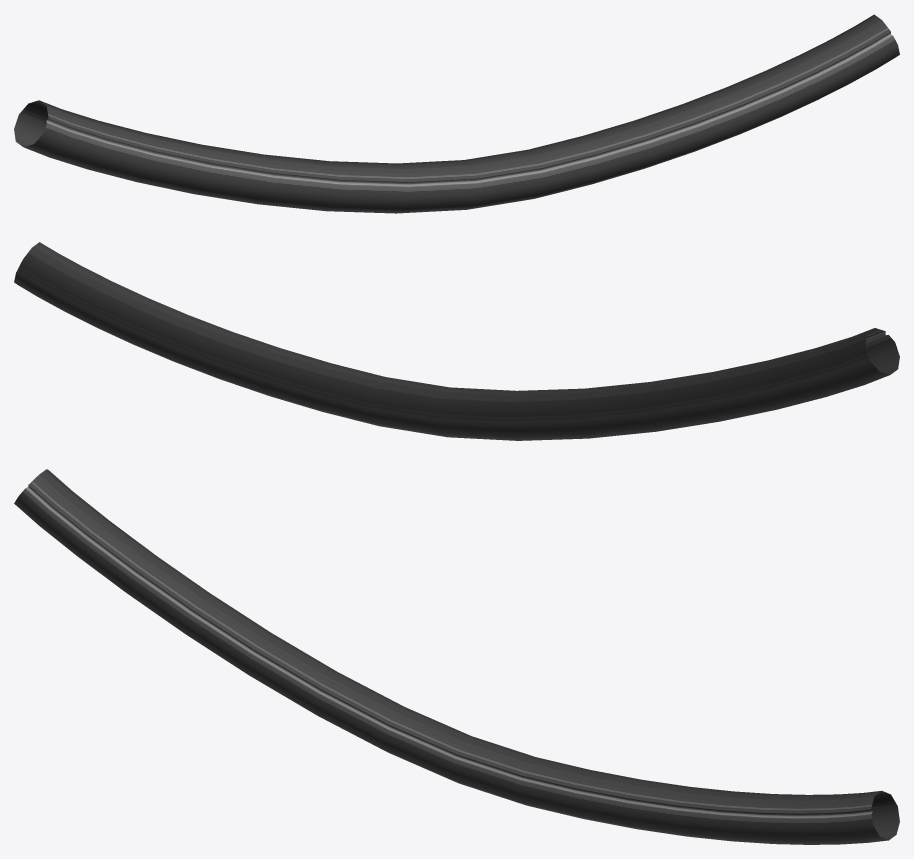
File: SM_Wire_Bigger_Black.fbx
3 views of the same model, one above another, from view 1: azimuth 30°, elevation 25°; view 2: azimuth 150°, elevation 25°; view 3: azimuth 330°, elevation 25° (orthographic).
Visible parts, largest first — view 1: Sm_Wire_Bigger_Black; view 2: Sm_Wire_Bigger_Black; view 3: Sm_Wire_Bigger_Black.
Boxes of the visible parts, bbox=[...] form: Sm_Wire_Bigger_Black: bbox=[14, 14, 899, 213]; Sm_Wire_Bigger_Black: bbox=[14, 242, 899, 440]; Sm_Wire_Bigger_Black: bbox=[14, 469, 899, 844].
Bounding box in the file's own units: 10.34 × 2.23 × 44.59.
Materials: 1 (1 with a texture image).
